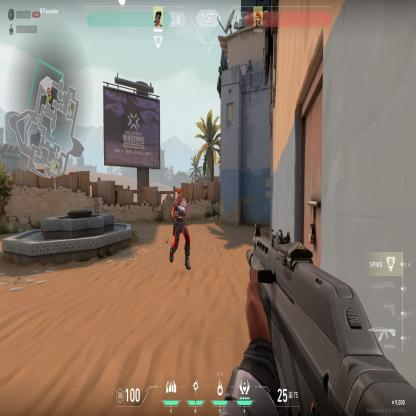enemy: (169, 185, 192, 272)
